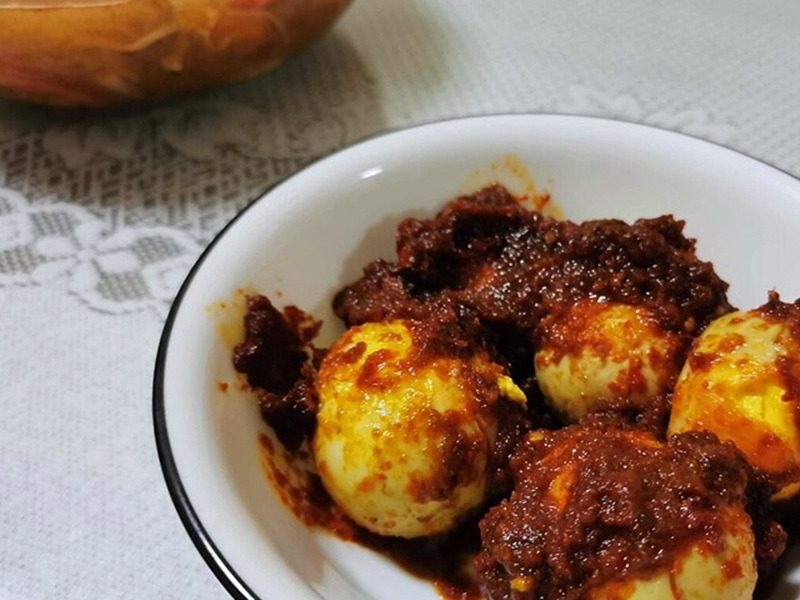Telur Balado: (218, 202, 792, 594)
